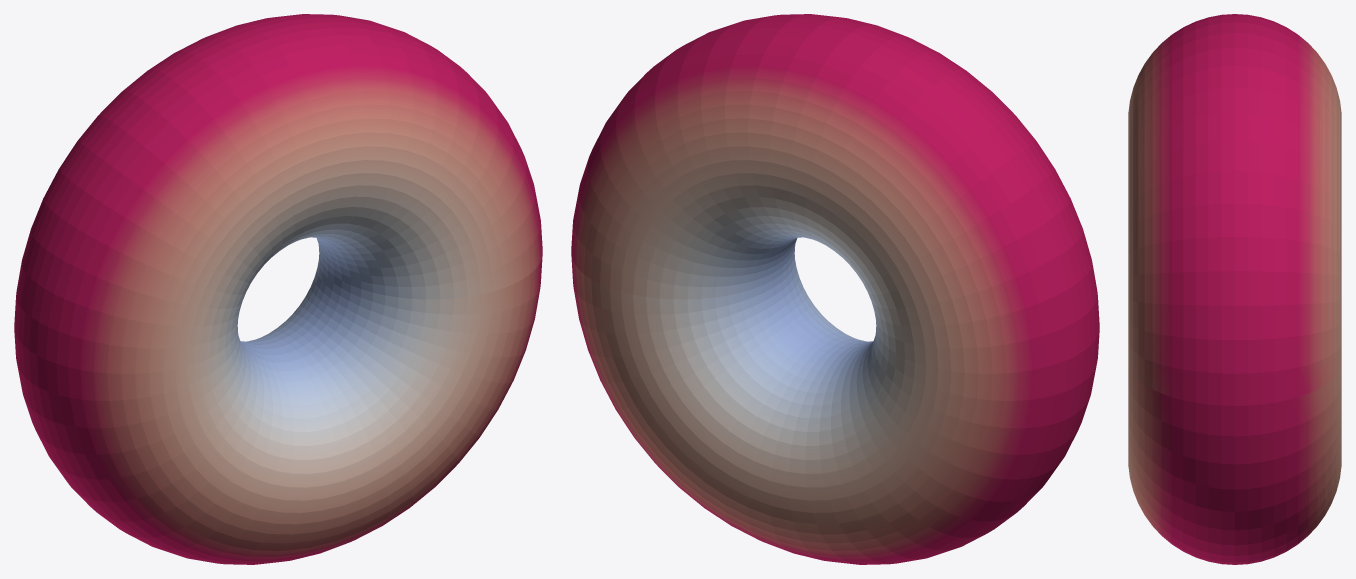
3 renders of one model, left to right at view 1: azimuth 30°, elevation 25°; view 2: azimuth 150°, elevation 25°; view 3: azimuth 270°, elevation 25°, orthographic. The views are drawn at different scales.
Parts seen in each view (by area): view 1: world; view 2: world; view 3: world.
Part boxes in pixels (x1,y1,x2,y2): world: [14, 14, 542, 564]; world: [571, 14, 1099, 564]; world: [1128, 14, 1341, 564].
Bounding box in the file's own units: 25.07 × 25.02 × 9.71.
